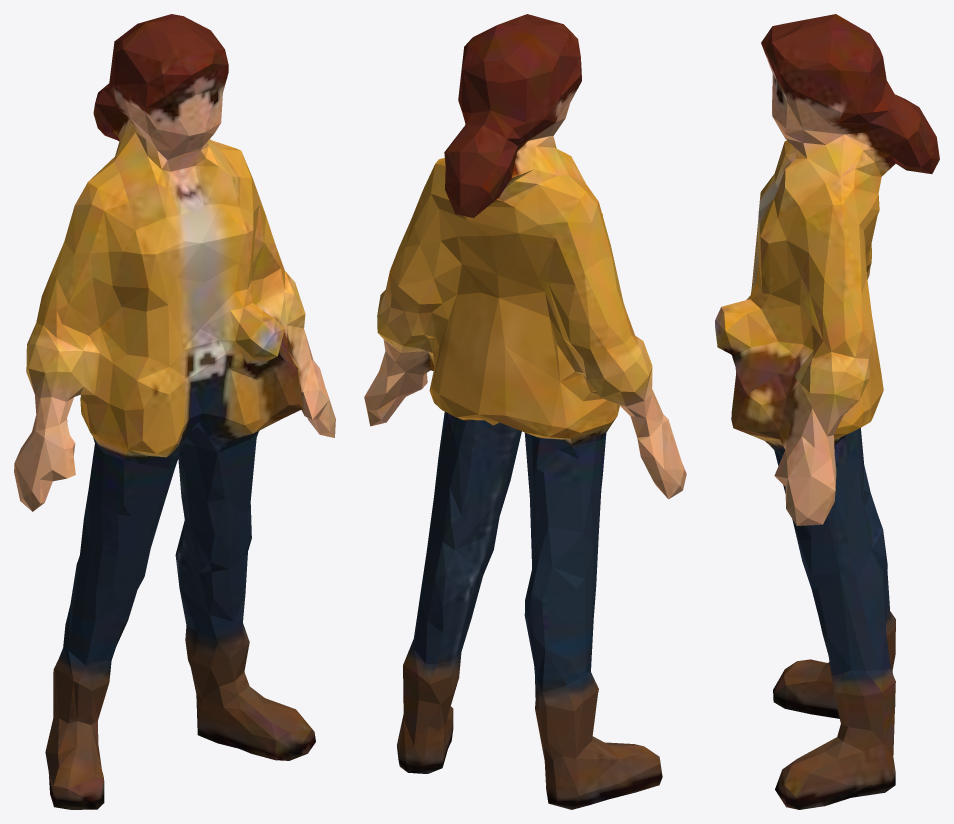
File: habitant-loin.glb
3 views of the same model, side by side, from view 1: azimuth 30°, elevation 25°; view 2: azimuth 150°, elevation 25°; view 3: azimuth 270°, elevation 25° (orthographic). The views are drawn at different scales.
Visible parts, largest first — view 1: habitant; view 2: habitant; view 3: habitant.
Boxes of the visible parts, left/top/right/bottom form: habitant: left=14, top=14, right=335, bottom=809; habitant: left=364, top=14, right=686, bottom=809; habitant: left=715, top=14, right=939, bottom=809.
Bounding box in the file's own units: 0.4331 × 1.01 × 0.2799.
1 material, 1 textured.
